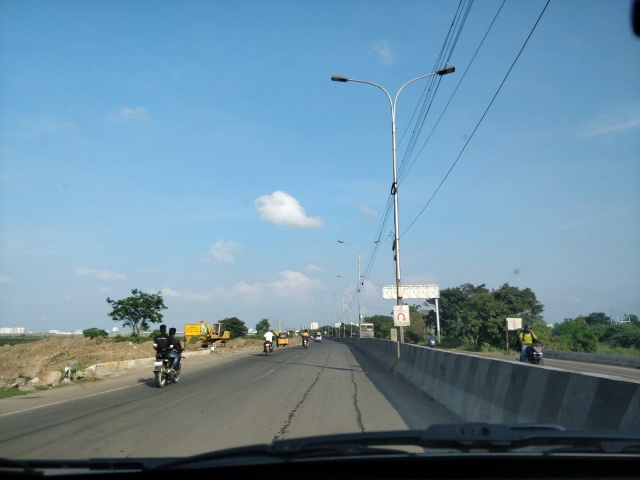auto: (276, 328, 290, 348)
car: (314, 333, 323, 345)
motorbike: (152, 323, 188, 387), (513, 324, 550, 386), (263, 329, 278, 357), (300, 327, 313, 350)
tractor: (195, 318, 236, 351)
truck: (356, 322, 377, 341)
